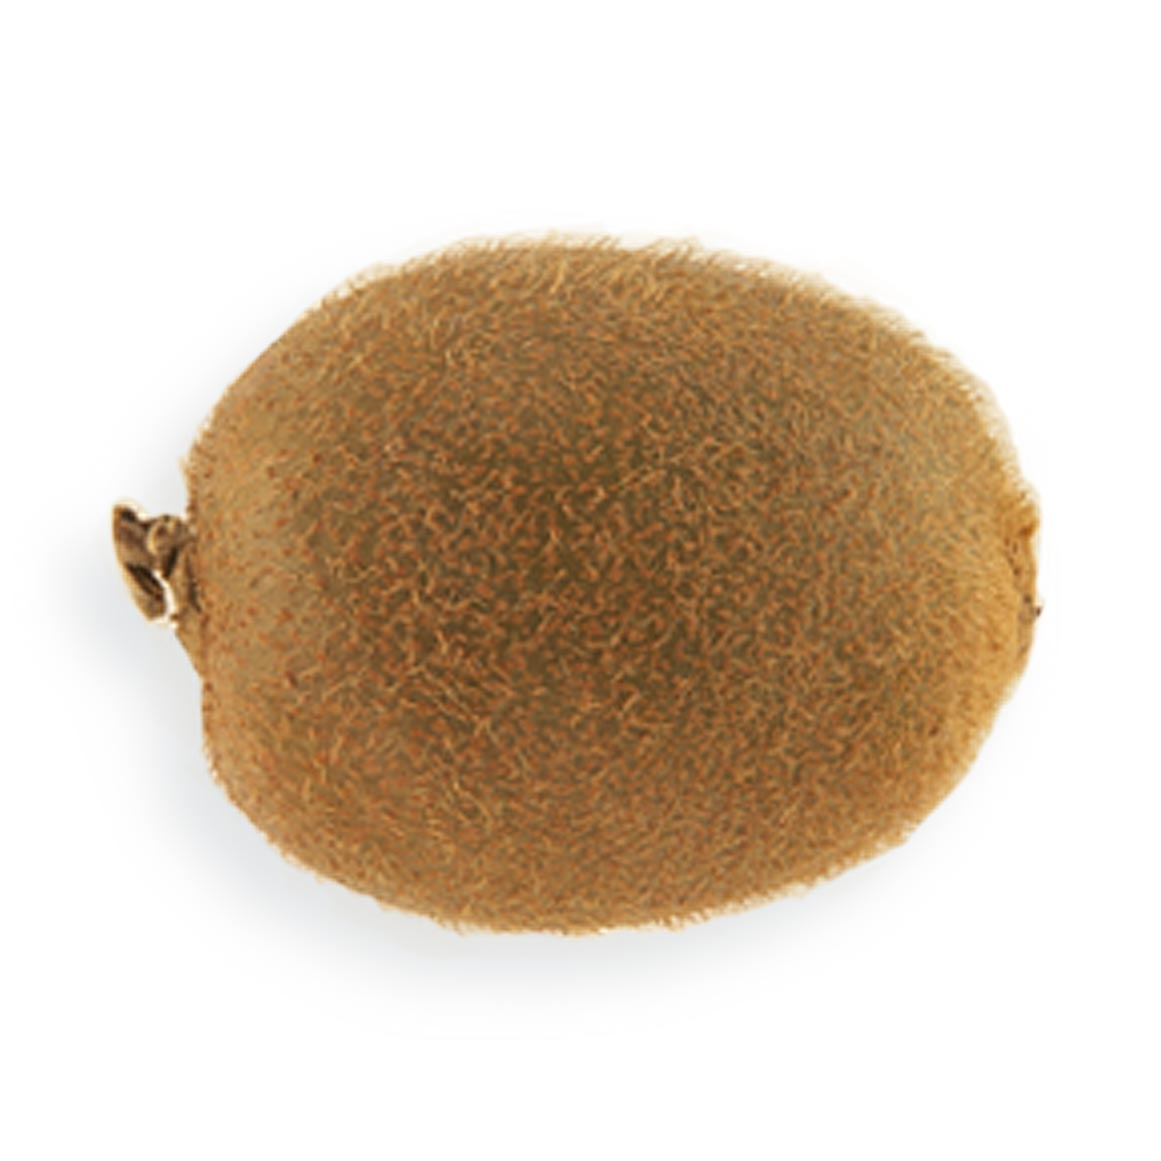kiwi: (147, 243, 1049, 954)
